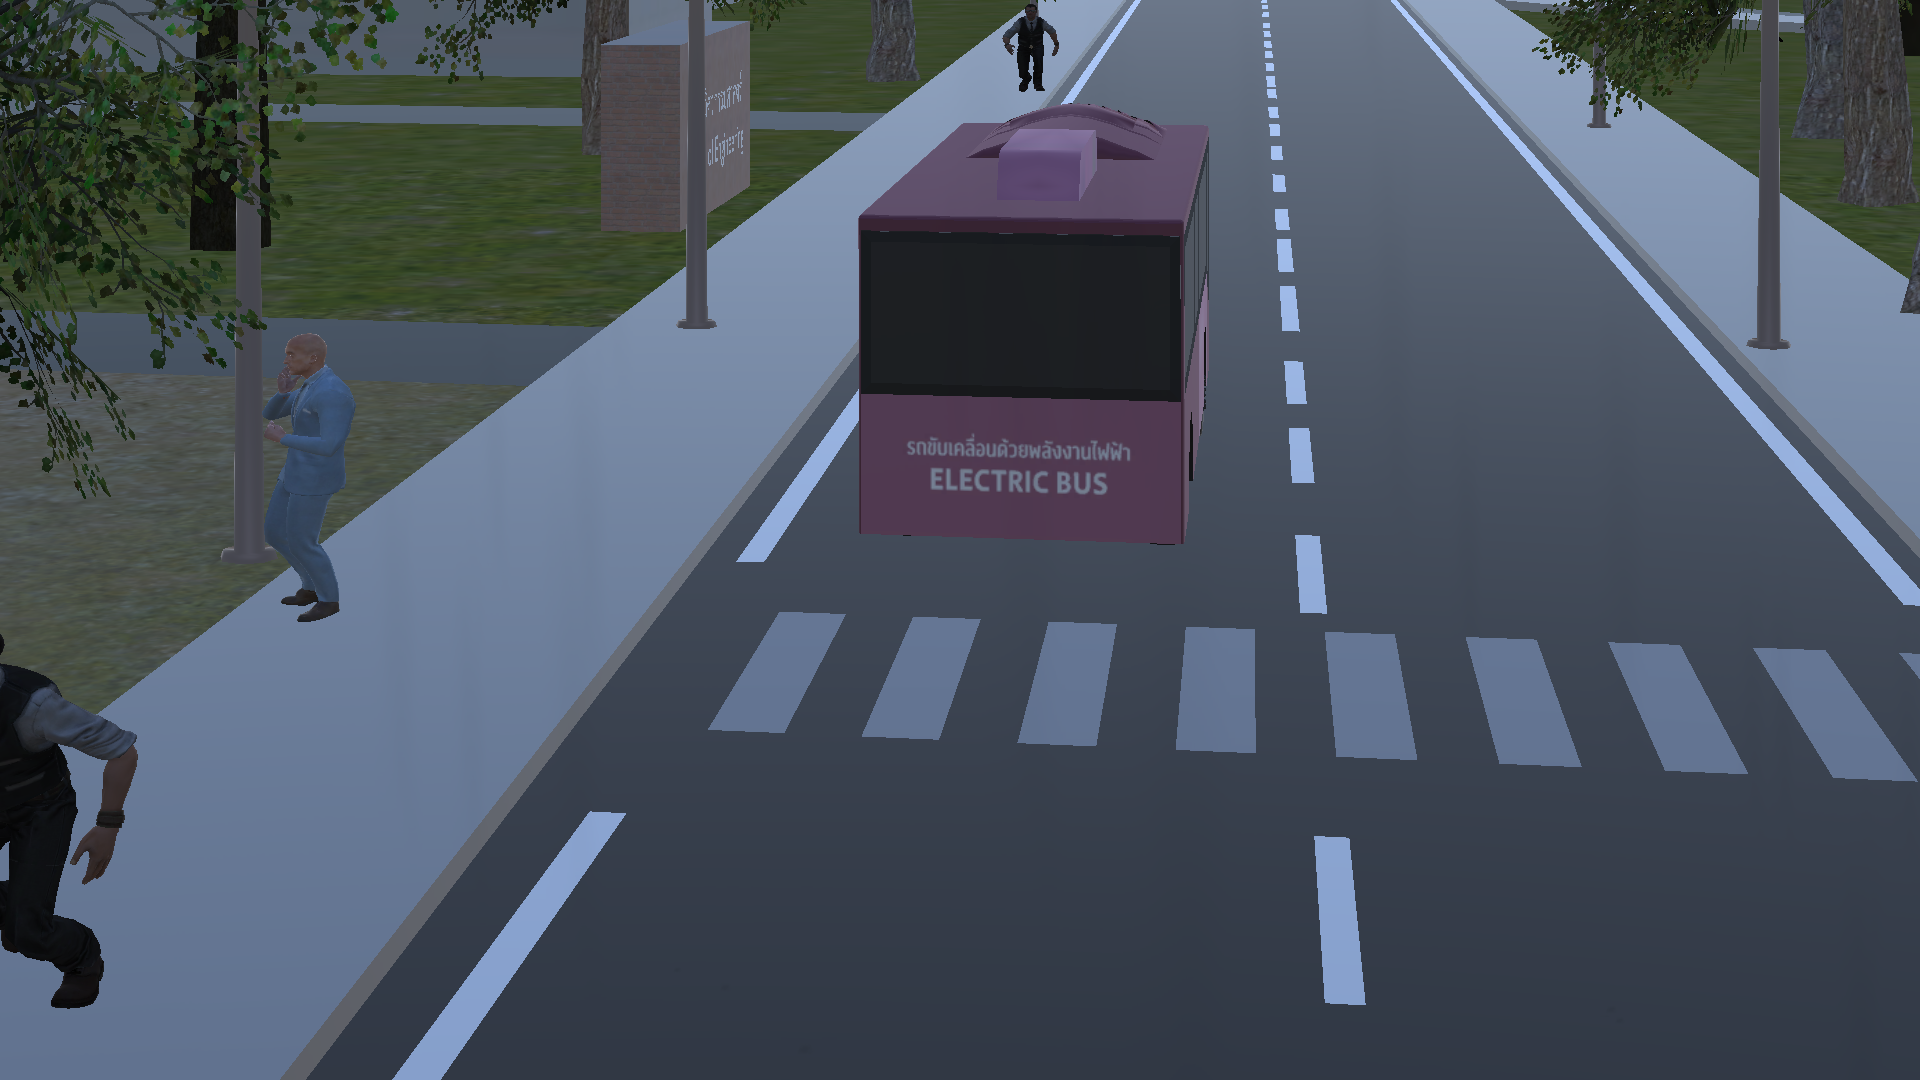pedestrian: (1, 636, 133, 1010), (260, 332, 359, 640), (995, 1, 1065, 94)
